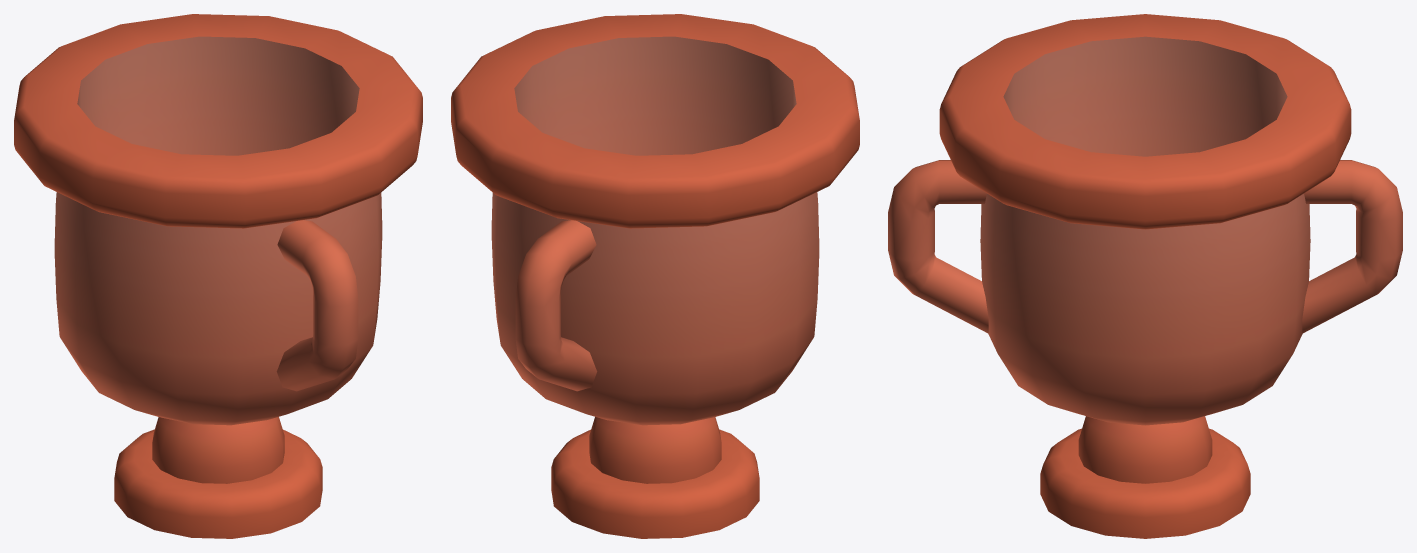
Rendered from Cup_V1_02.fbx.
3 views of the same model, side by side, from view 1: azimuth 30°, elevation 25°; view 2: azimuth 150°, elevation 25°; view 3: azimuth 270°, elevation 25° (orthographic).
Parts seen in each view (by area): view 1: Cup_V1_02; view 2: Cup_V1_02; view 3: Cup_V1_02.
Part boxes in pixels (<box>): Cup_V1_02: <box>14,14,422,538</box>; Cup_V1_02: <box>451,14,859,538</box>; Cup_V1_02: <box>888,14,1402,538</box>.
Bounding box in the file's own units: 37.46 × 39.97 × 46.85.
